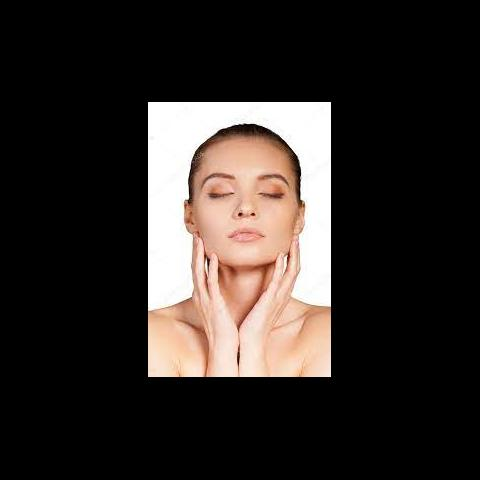closed: (200, 170, 294, 205)
